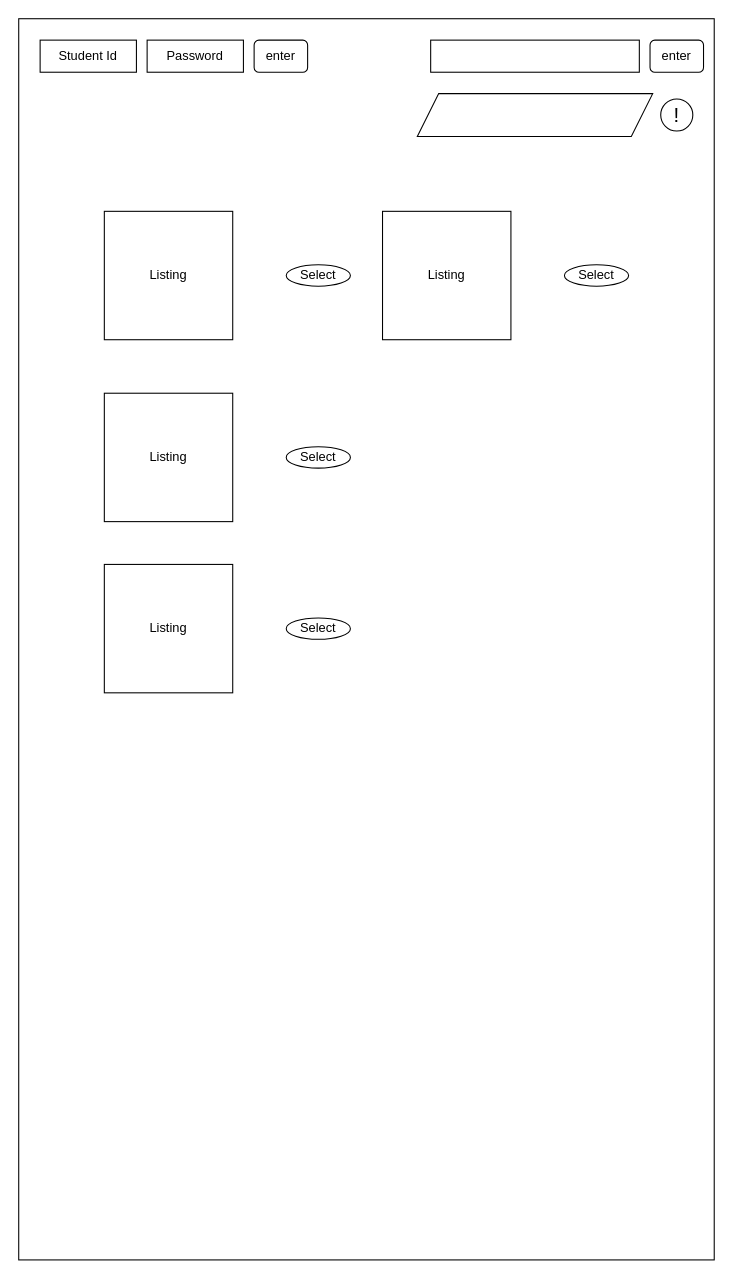
This 733x1279 diagram has some shape labels left out. The shapes that lost their labels are listed below. From the top down, each one's centre as x and y in pixels, then its label:
(534,55): Item Search
(534,114): Check out
